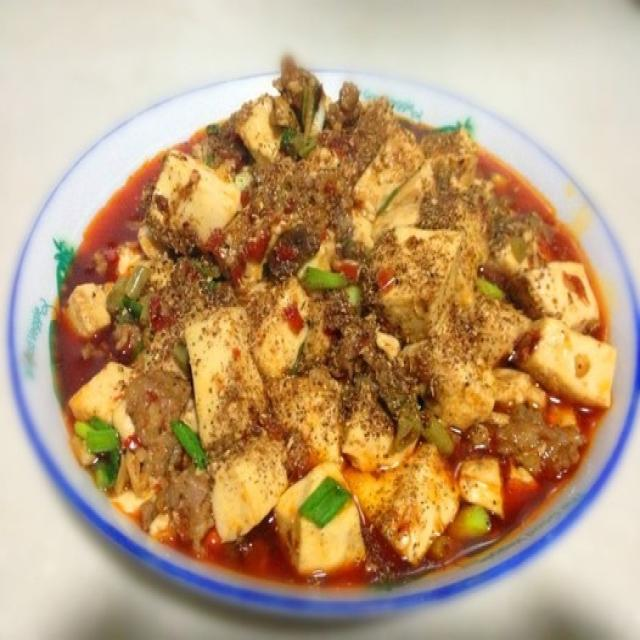豆腐料理: (16, 60, 629, 599)
